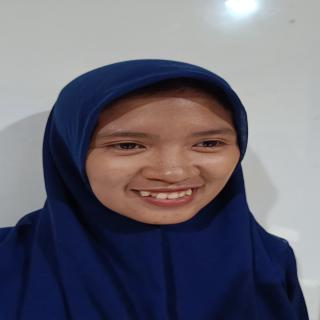Senang: (81, 89, 239, 231)
